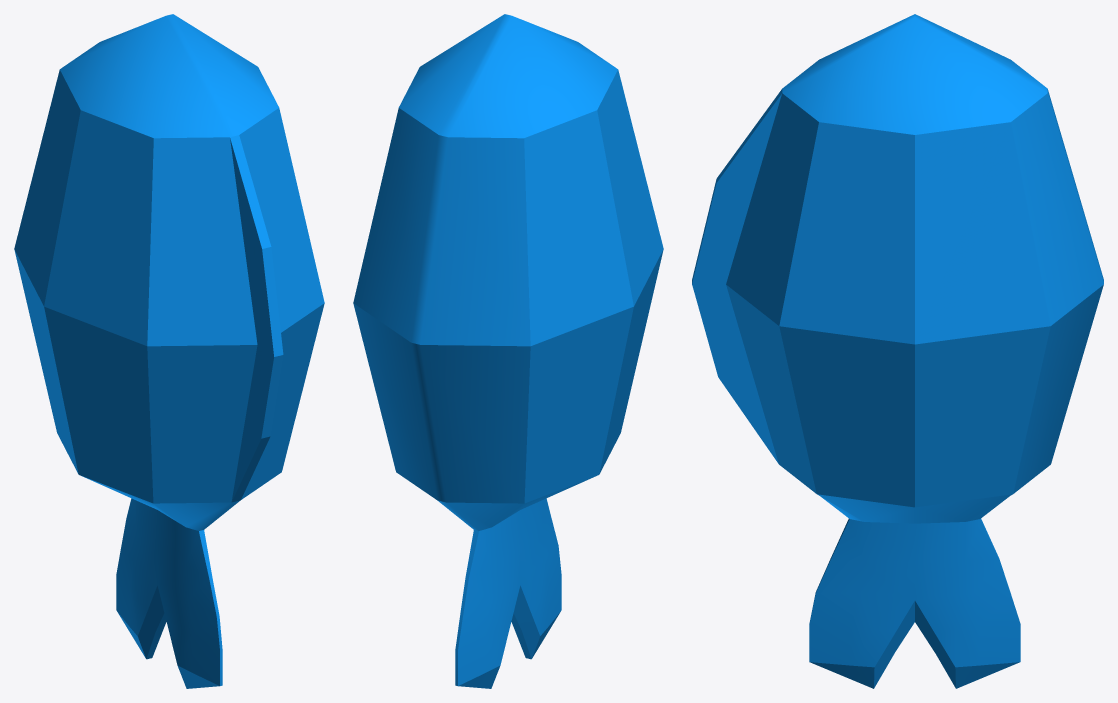
Rendered from Produce_fish.fbx.
3 renders of one model, left to right at view 1: azimuth 30°, elevation 25°; view 2: azimuth 150°, elevation 25°; view 3: azimuth 270°, elevation 25°, orthographic.
Parts seen in each view (by area): view 1: Sphere003; view 2: Sphere003; view 3: Sphere003.
Part boxes in pixels (x1=…): Sphere003: x1=14, y1=14, x2=324, y2=688; Sphere003: x1=353, y1=14, x2=663, y2=688; Sphere003: x1=692, y1=14, x2=1103, y2=688.
Bounding box in the file's own units: 3.98 × 9.98 × 5.54.
